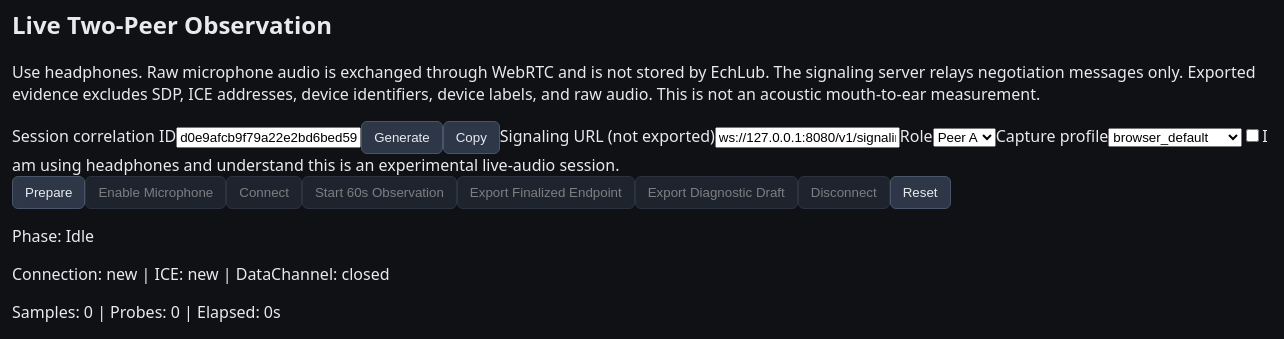
Test: LivePerformancePanel correlation ID setup › returns to editable idle state after Reset
Click the button "Prepare": (49, 192) [12, 176, 85, 209]
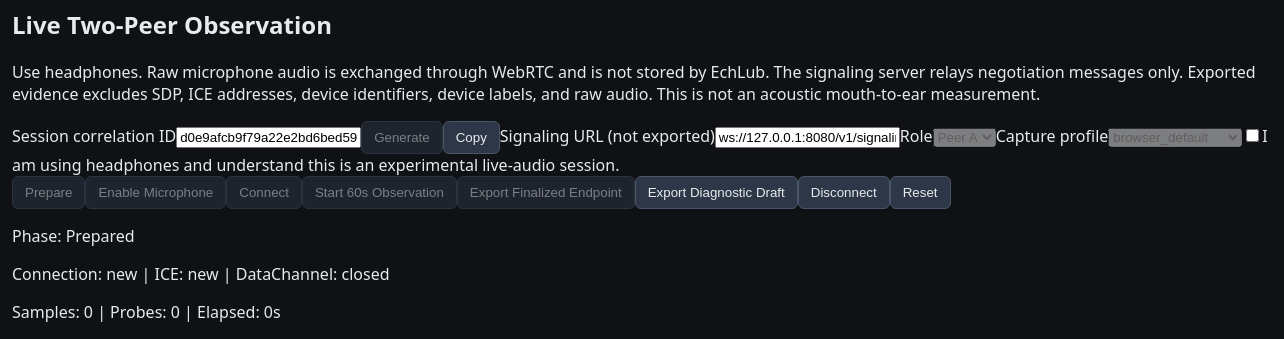
Click the button "Reset": (920, 192) [890, 176, 950, 209]
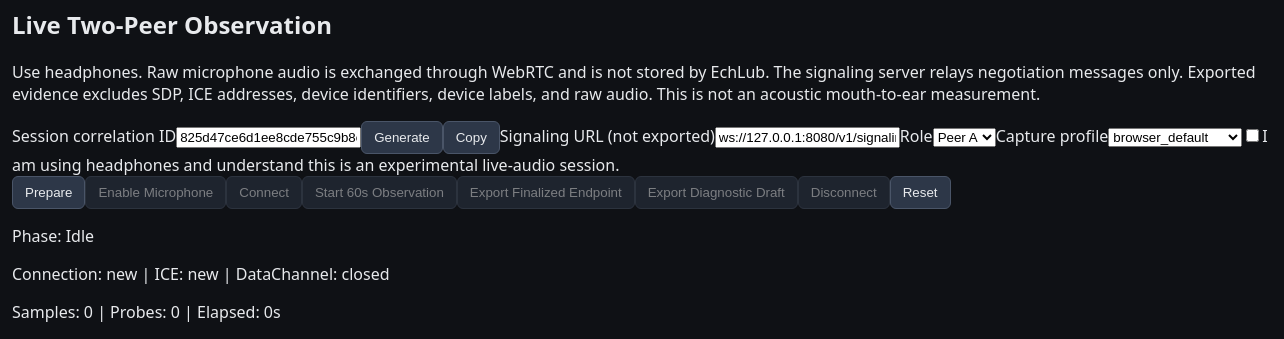
Expected: the button "Generate" is enabled, [361, 121, 443, 154]
Expected: the text "Phase: Idle" is shown, [12, 225, 94, 247]
